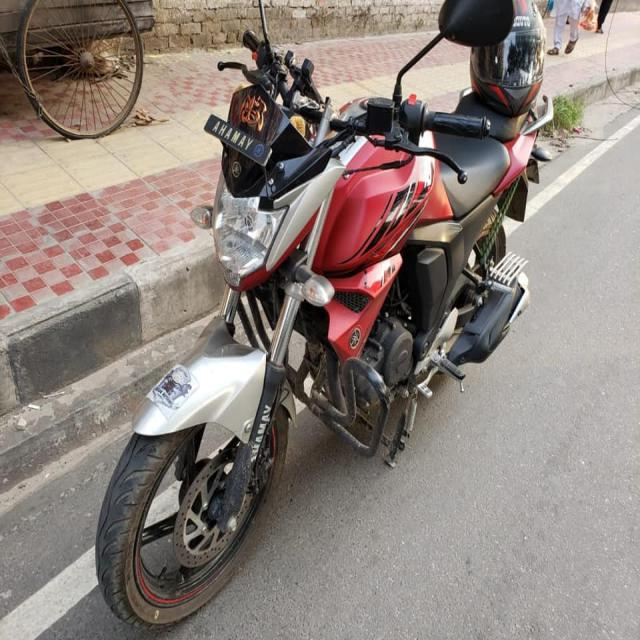Motorbike: (88, 2, 550, 620)
